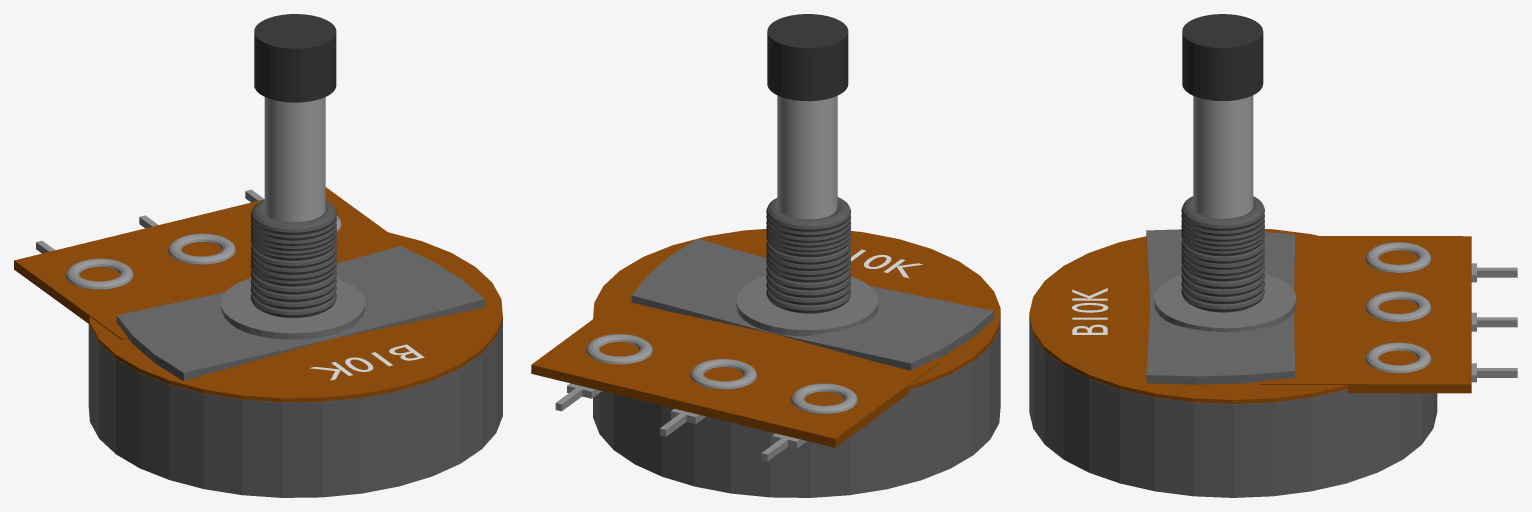
File: potentiometer_10K.fbx
The picture shows the model from 3 angles, left to right: view 1: azimuth 30°, elevation 25°; view 2: azimuth 150°, elevation 25°; view 3: azimuth 270°, elevation 25°; orthographic projection.
Parts seen in each view (by area): view 1: Torus.010, Cylinder.006, Cylinder.005, Text; view 2: Torus.010, Cylinder.006, Cylinder.005; view 3: Torus.010, Cylinder.006, Cylinder.005, Text.
Part boxes in pixels (x1,y1,x2,y2): Torus.010: (14, 187, 502, 497); Cylinder.006: (264, 97, 325, 222); Cylinder.005: (254, 14, 336, 102); Text: (309, 344, 424, 380); Torus.010: (531, 197, 1000, 497); Cylinder.006: (777, 95, 837, 219); Cylinder.005: (767, 14, 848, 101); Torus.010: (1029, 196, 1517, 497); Cylinder.006: (1193, 95, 1253, 218); Cylinder.005: (1182, 14, 1263, 101); Text: (1072, 288, 1108, 334).
Bounding box in the file's own units: 121 × 124 × 145.
